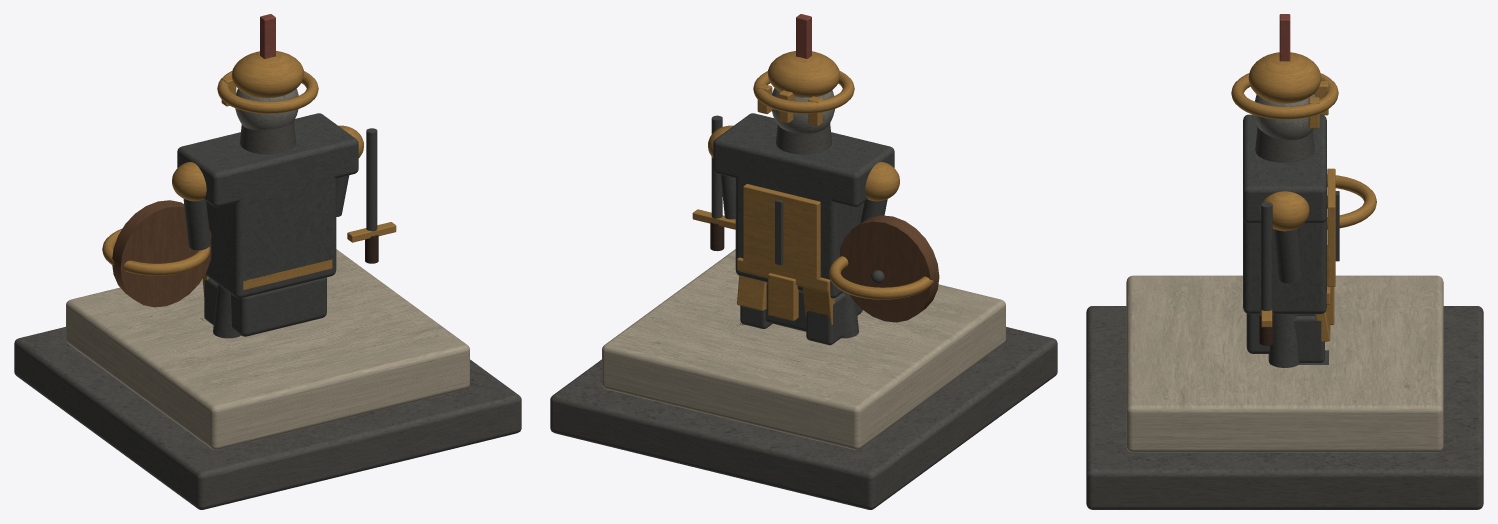
File: statue_plinth.glb
The picture shows the model from 3 angles, left to right: view 1: azimuth 30°, elevation 25°; view 2: azimuth 150°, elevation 25°; view 3: azimuth 270°, elevation 25°; orthographic projection. The views are drawn at different scales.
Parts seen in each view (by area): view 1: statue_plinth; view 2: statue_plinth; view 3: statue_plinth.
Part boxes in pixels (x1,y1,x2,y2): statue_plinth: (14, 14, 521, 509); statue_plinth: (550, 14, 1057, 509); statue_plinth: (1086, 14, 1483, 509).
Bounding box in the file's own units: 2.8 × 3.2 × 2.8.
Materials: 1 (1 with a texture image).
